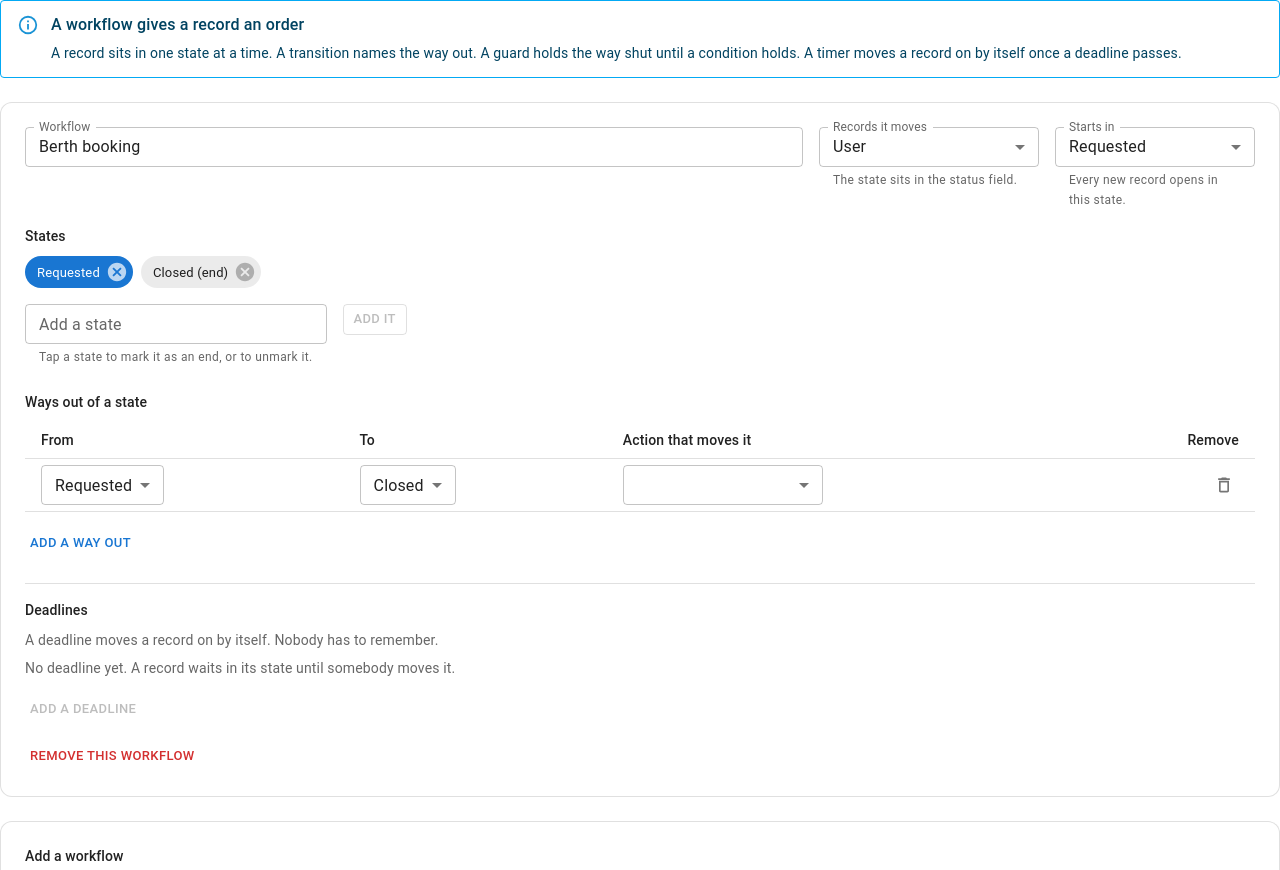
Test: the workflow editor over a held workflow › points a way out at another starting state
Press the mouse on the dropdown named "From state of close" at (94, 485), box [55,476,132,495]
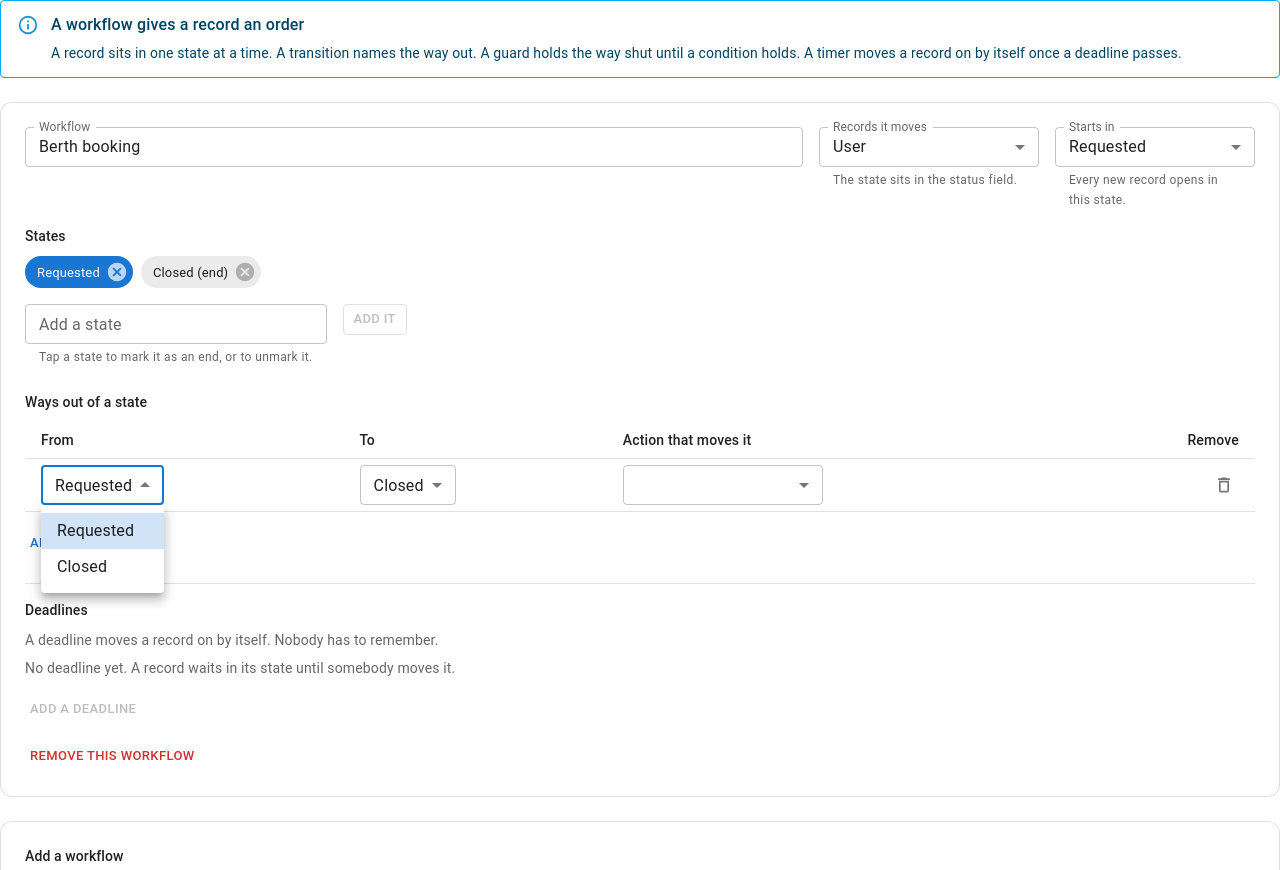
Click the option "Closed" at (82, 566), box [57,557,107,576]
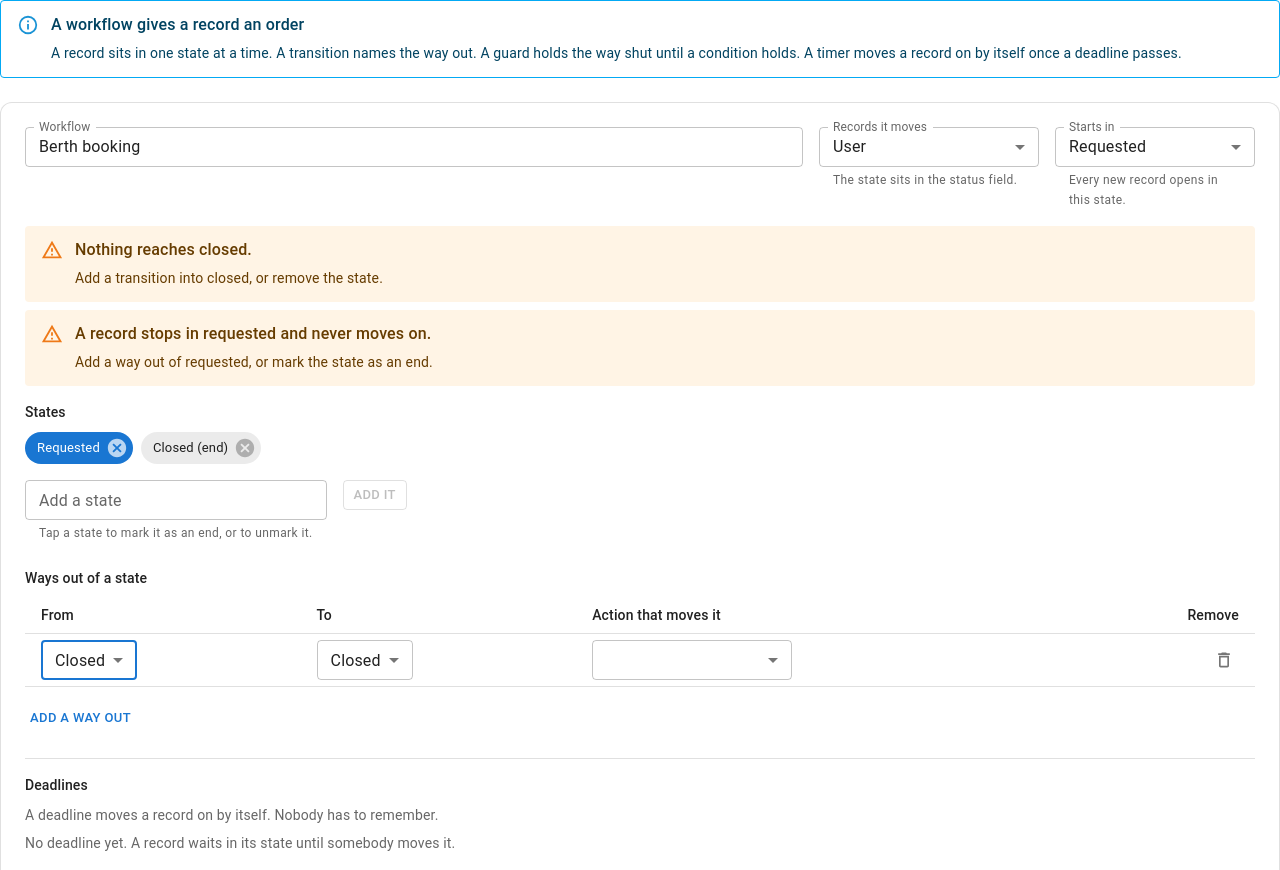
Result: the list is gone
